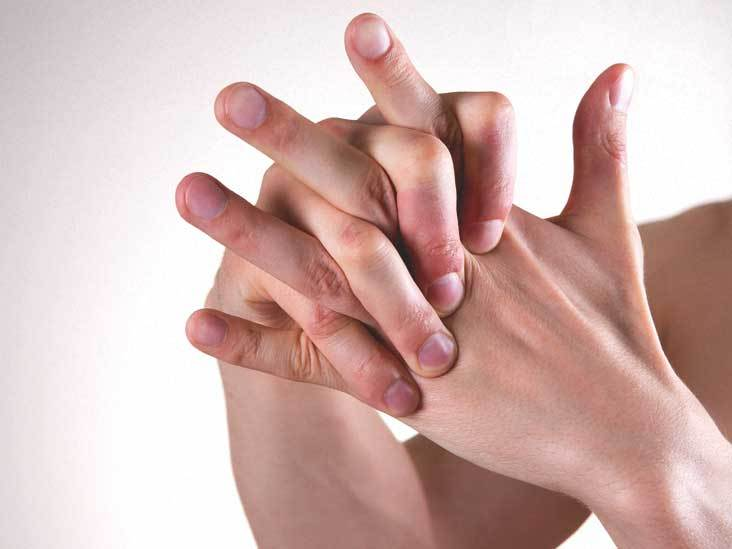finger: (169, 163, 426, 345), (297, 196, 473, 376), (339, 9, 479, 224), (206, 69, 397, 225), (340, 116, 483, 316), (177, 308, 430, 414), (270, 278, 424, 433), (443, 84, 529, 254)
